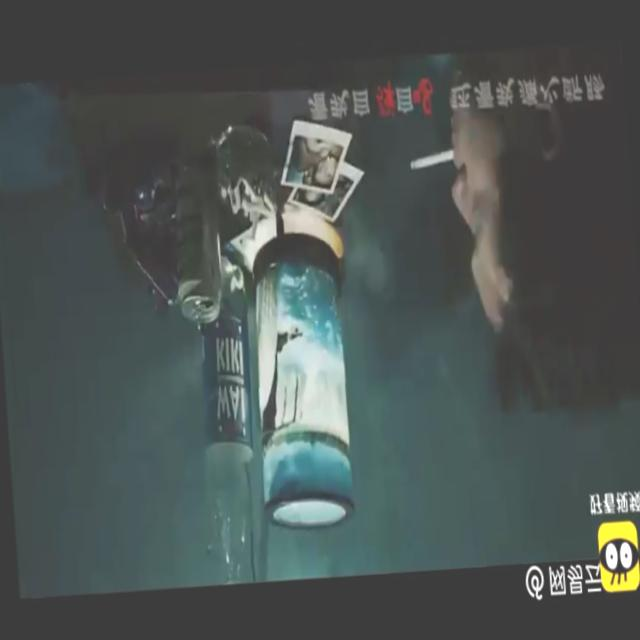smoke: (406, 140, 456, 175)
